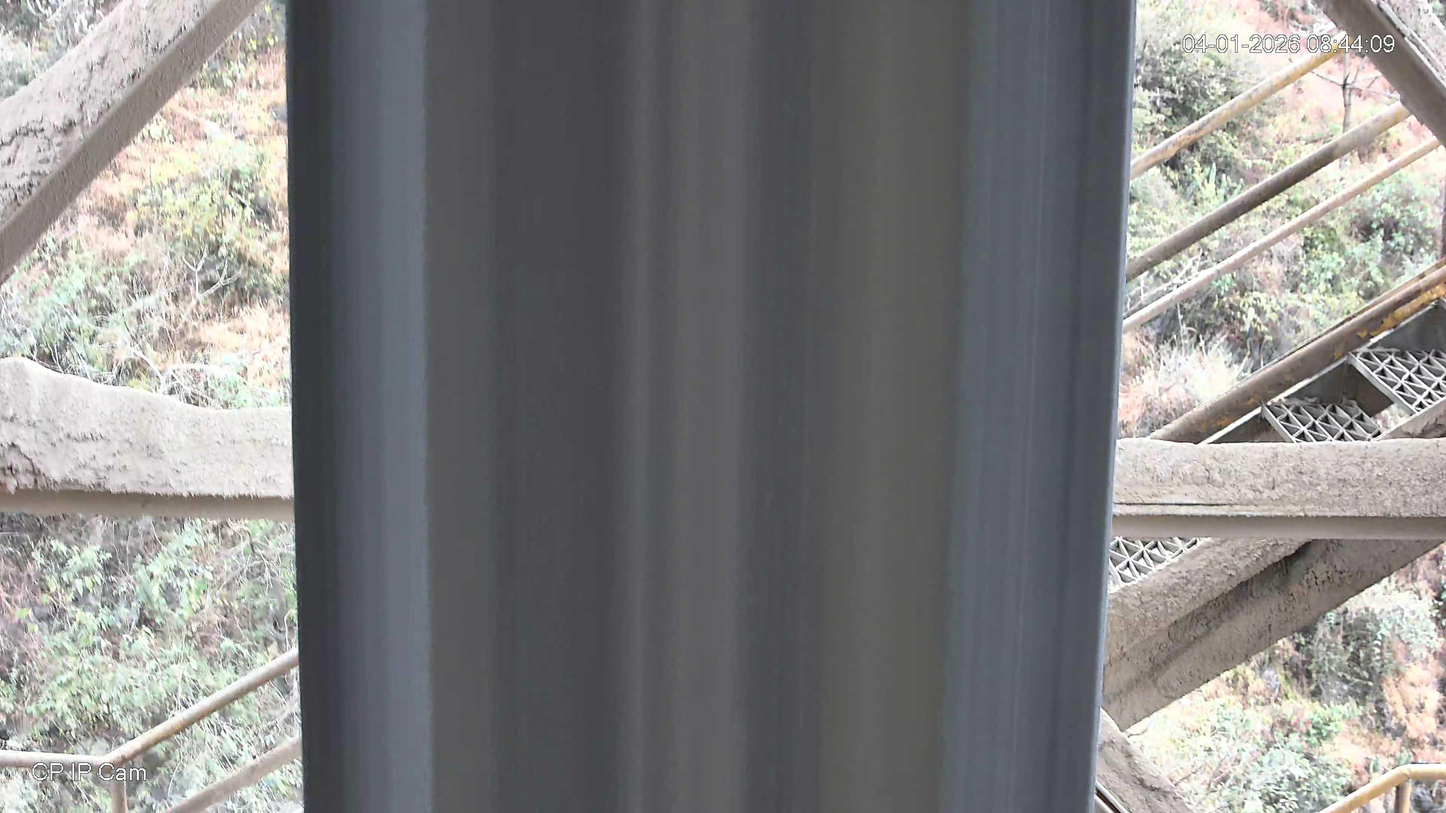belt_roi: (285, 0, 1136, 813)
